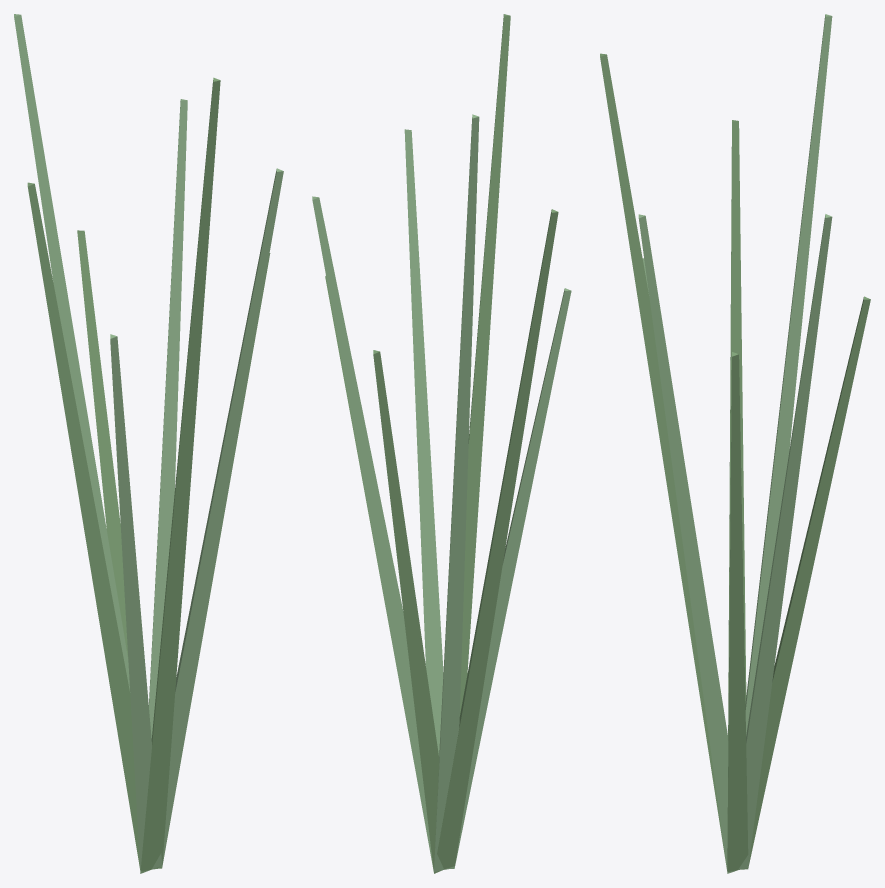
File: grass_tuft_v03.glb
3 views of the same model, side by side, from view 1: azimuth 30°, elevation 25°; view 2: azimuth 150°, elevation 25°; view 3: azimuth 270°, elevation 25° (orthographic). The views are drawn at different scales.
Parts seen in each view (by area): view 1: lod0; view 2: lod0; view 3: lod0.
Part boxes in pixels (bbox=[...]): lod0: bbox=[14, 14, 283, 873]; lod0: bbox=[312, 14, 571, 873]; lod0: bbox=[600, 14, 870, 873].
Size of what is drawn, in the model's own units: 0.2885 by 0.9538 by 0.2874.
